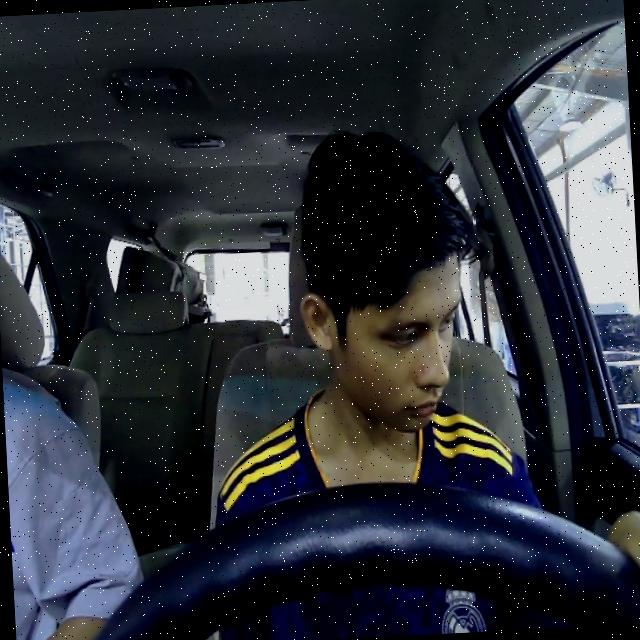seeing_right: (292, 243, 470, 438)
